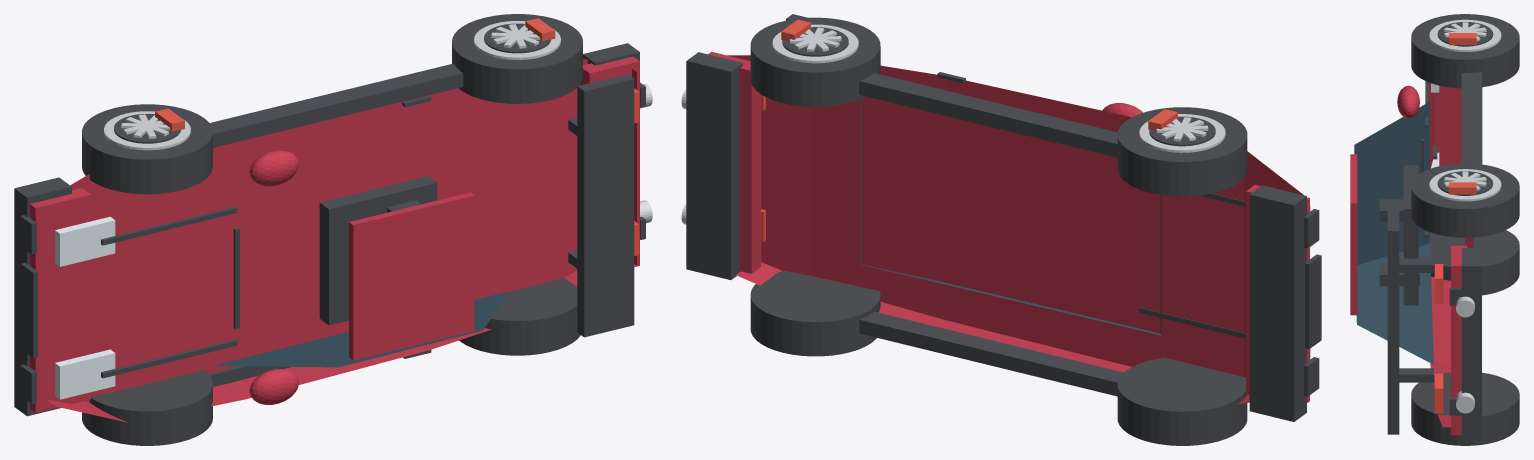
The model's file is spectral_gt_rs_game_ready.glb.
The picture shows the model from 3 angles, left to right: view 1: azimuth 30°, elevation 25°; view 2: azimuth 150°, elevation 25°; view 3: azimuth 270°, elevation 25°; orthographic projection. The views are drawn at different scales.
Visible parts, largest first — view 1: part_000_One-piece_aerodynamic_body, part_008_Floating_roof_panel, part_086_Sculpted_rear_wing, part_003_Front_bumper_fascia, part_030_Wide_performance_tire, part_060_Wide_performance_tire, part_015_Wide_performance_tire, part_012_Carbon_side_skirt, part_045_Wide_performance_tire, part_088_Dashboard, part_007_Panoramic_smoked_glass_canopy, part_001_Front_carbon_splitter (+15 smaller); view 2: part_000_One-piece_aerodynamic_body, part_001_Front_carbon_splitter, part_002_Rear_diffuser, part_015_Wide_performance_tire, part_045_Wide_performance_tire, part_030_Wide_performance_tire, part_060_Wide_performance_tire, part_009_Carbon_side_skirt, part_012_Carbon_side_skirt, part_004_Rear_bumper_fascia, part_079_Wide_front_grille, part_007_Panoramic_smoked_glass_canopy (+6 smaller); view 3: part_007_Panoramic_smoked_glass_canopy, part_060_Wide_performance_tire, part_030_Wide_performance_tire, part_045_Wide_performance_tire, part_002_Rear_diffuser, part_000_One-piece_aerodynamic_body, part_015_Wide_performance_tire, part_086_Sculpted_rear_wing, part_012_Carbon_side_skirt, part_088_Dashboard, part_004_Rear_bumper_fascia, part_008_Floating_roof_panel (+17 smaller).
Boxes of the visible parts, x1,y1,x2,y2 form: part_000_One-piece_aerodynamic_body: [46, 59, 636, 422]; part_008_Floating_roof_panel: [349, 192, 474, 360]; part_086_Sculpted_rear_wing: [577, 74, 634, 337]; part_003_Front_bumper_fascia: [30, 188, 90, 412]; part_030_Wide_performance_tire: [82, 104, 212, 194]; part_060_Wide_performance_tire: [452, 14, 582, 103]; part_015_Wide_performance_tire: [82, 370, 212, 445]; part_012_Carbon_side_skirt: [209, 63, 463, 147]; part_045_Wide_performance_tire: [459, 277, 580, 355]; part_088_Dashboard: [319, 176, 437, 325]; part_007_Panoramic_smoked_glass_canopy: [211, 291, 509, 367]; part_001_Front_carbon_splitter: [14, 177, 71, 416]; part_000_One-piece_aerodynamic_body: [727, 55, 1303, 404]; part_001_Front_carbon_splitter: [1249, 185, 1306, 421]; part_002_Rear_diffuser: [686, 52, 742, 279]; part_015_Wide_performance_tire: [1117, 358, 1247, 445]; part_045_Wide_performance_tire: [750, 270, 880, 356]; part_030_Wide_performance_tire: [1117, 107, 1247, 196]; part_060_Wide_performance_tire: [750, 17, 880, 106]; part_009_Carbon_side_skirt: [859, 311, 1123, 396]; part_012_Carbon_side_skirt: [859, 73, 1117, 157]; part_004_Rear_bumper_fascia: [708, 51, 761, 273]; part_079_Wide_front_grille: [1305, 254, 1321, 349]; part_007_Panoramic_smoked_glass_canopy: [860, 99, 1161, 335]; part_007_Panoramic_smoked_glass_canopy: [1354, 101, 1433, 364]; part_060_Wide_performance_tire: [1411, 163, 1519, 237]; part_030_Wide_performance_tire: [1411, 14, 1519, 88]; part_045_Wide_performance_tire: [1411, 372, 1519, 445]; part_002_Rear_diffuser: [1461, 248, 1481, 439]; part_000_One-piece_aerodynamic_body: [1428, 82, 1473, 427]; part_015_Wide_performance_tire: [1430, 230, 1519, 295]; part_086_Sculpted_rear_wing: [1387, 211, 1399, 434]; part_012_Carbon_side_skirt: [1461, 72, 1481, 164]; part_088_Dashboard: [1403, 165, 1418, 305]; part_004_Rear_bumper_fascia: [1451, 245, 1467, 435]; part_008_Floating_roof_panel: [1350, 154, 1357, 315].
Size of the model in its own units: 4.74 by 2.24 by 1.34.
